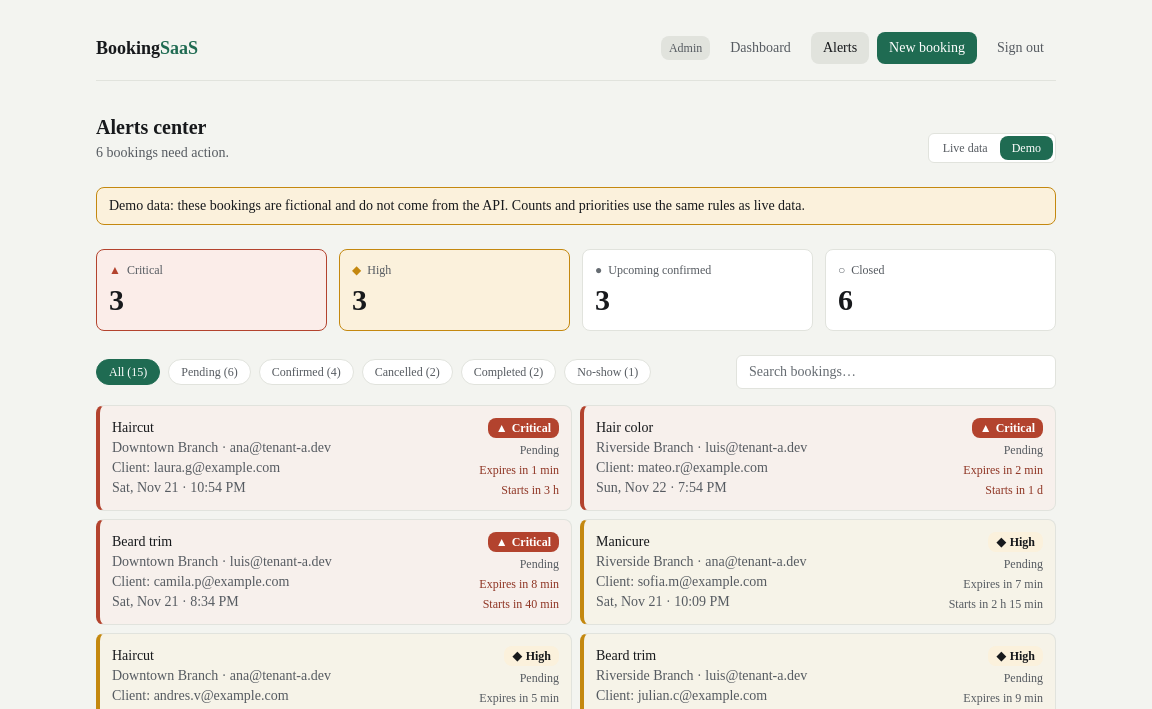
Test case: /alerts — demo mode › says so when a search matches nothing
Type "zzz-no-match" into the search field labelled "Search bookings" at (896, 372), box [736, 355, 1056, 389]
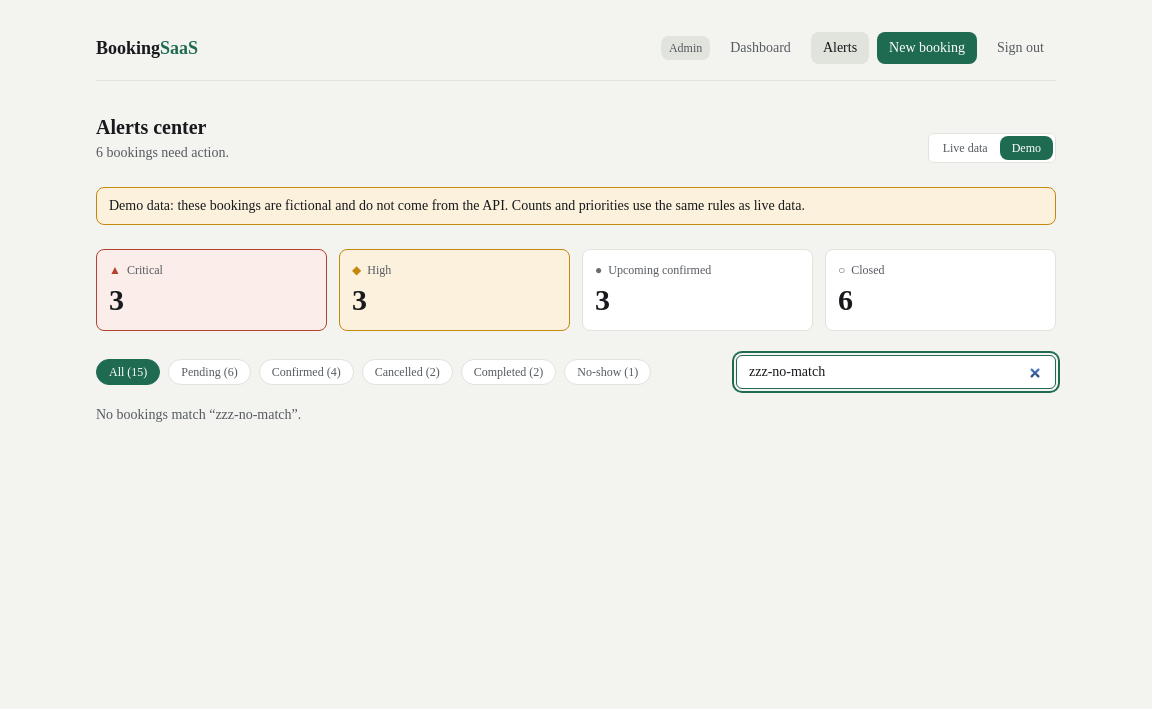
Result: the text "No bookings match “zzz-no-match”." is shown at [96, 407, 301, 422]
